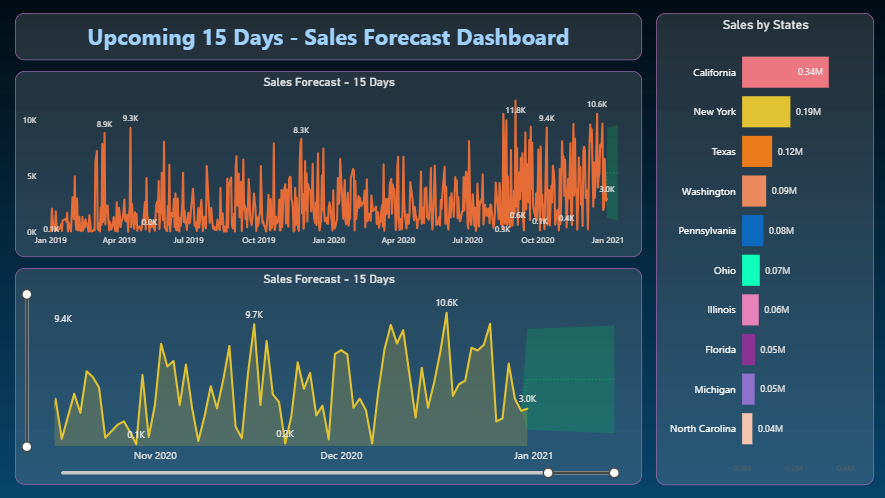

Layout of this report page (visuals, bound fields, positions):
{"tool":"powerbi","page":{"name":"Page 2","canvas":[1280,720],"ordinal":1},"visuals":[{"type":"lineChart","title":"Sales Forecast - 15 Days","fields":{"Y":["Sum(SuperStore_Sales_Dataset (2).Sales)"],"Category":["SuperStore_Sales_Dataset (2).Order Date"]},"box":[23,103.7,902.9,267.8],"z":0},{"type":"lineChart","title":"Sales Forecast - 15 Days","fields":{"Y":["Sum(SuperStore_Sales_Dataset (2).Sales)"],"Category":["SuperStore_Sales_Dataset (2).Order Date"]},"box":[23,387.4,902.9,312.5],"z":1000},{"type":"clusteredBarChart","title":"Sales by States","fields":{"Category":["SuperStore_Sales_Dataset (2).State"],"Y":["Sum(SuperStore_Sales_Dataset (2).Sales)"]},"box":[946.1,20.2,313.9,679.7],"z":2000},{"type":"textbox","box":[23,20.2,902.9,67.7],"z":3000}]}

Visuals, with their boxes in screenshot pixels (x1, y1, x2, y2), scaled from the page's 1280x720 canvas onto the 885x498 screenshot:
"Sales Forecast - 15 Days" lineChart: <bbox>16, 72, 640, 257</bbox>
"Sales Forecast - 15 Days" lineChart: <bbox>16, 268, 640, 484</bbox>
"Sales by States" clusteredBarChart: <bbox>654, 14, 871, 484</bbox>
textbox: <bbox>16, 14, 640, 61</bbox>
